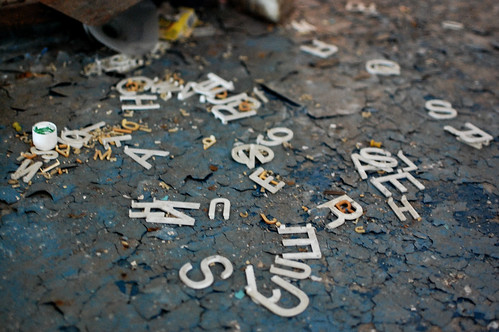trash: (25, 32, 499, 329)
